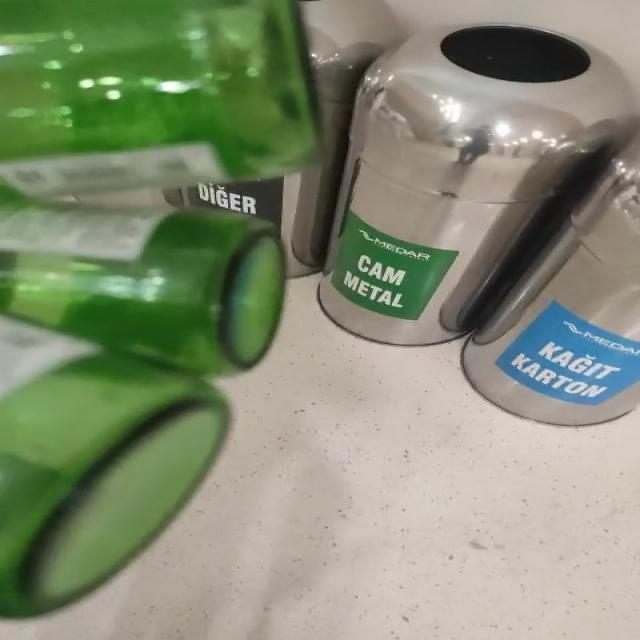glass: (1, 0, 316, 619)
